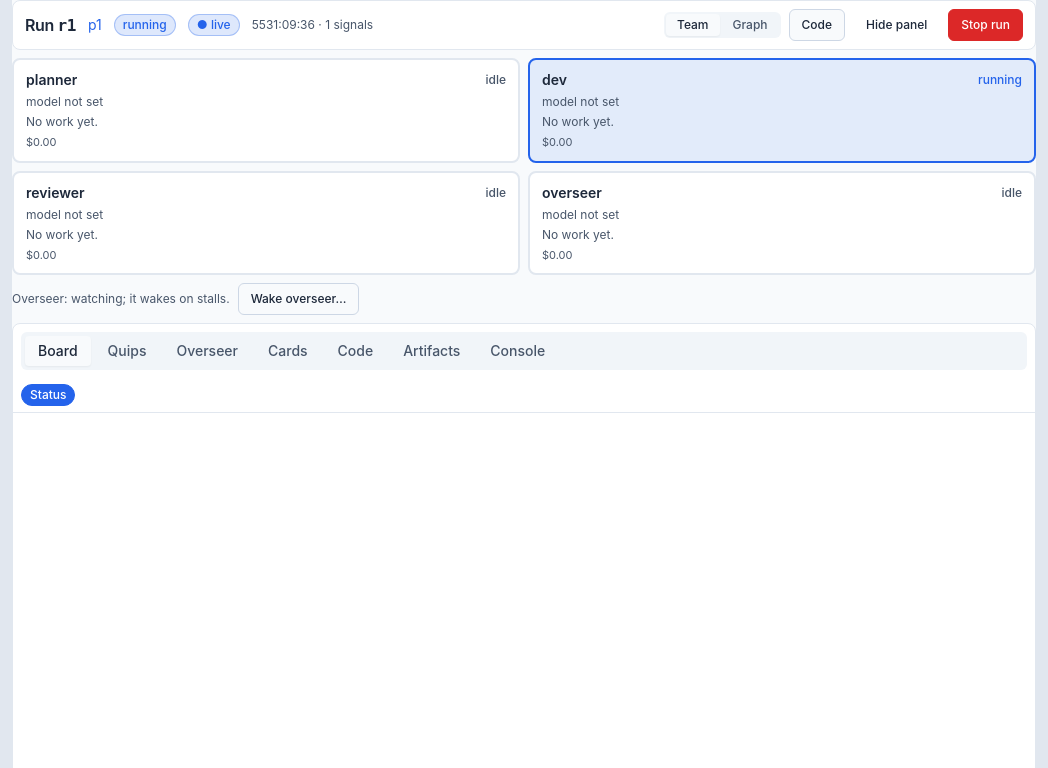
Scenario: CockpitView › the Code button opens the code on the worker writing now, with the project too
The image size is (1048, 768).
(page scrolled)
Click the button "Code": [817, 25] box [788,9,845,41]
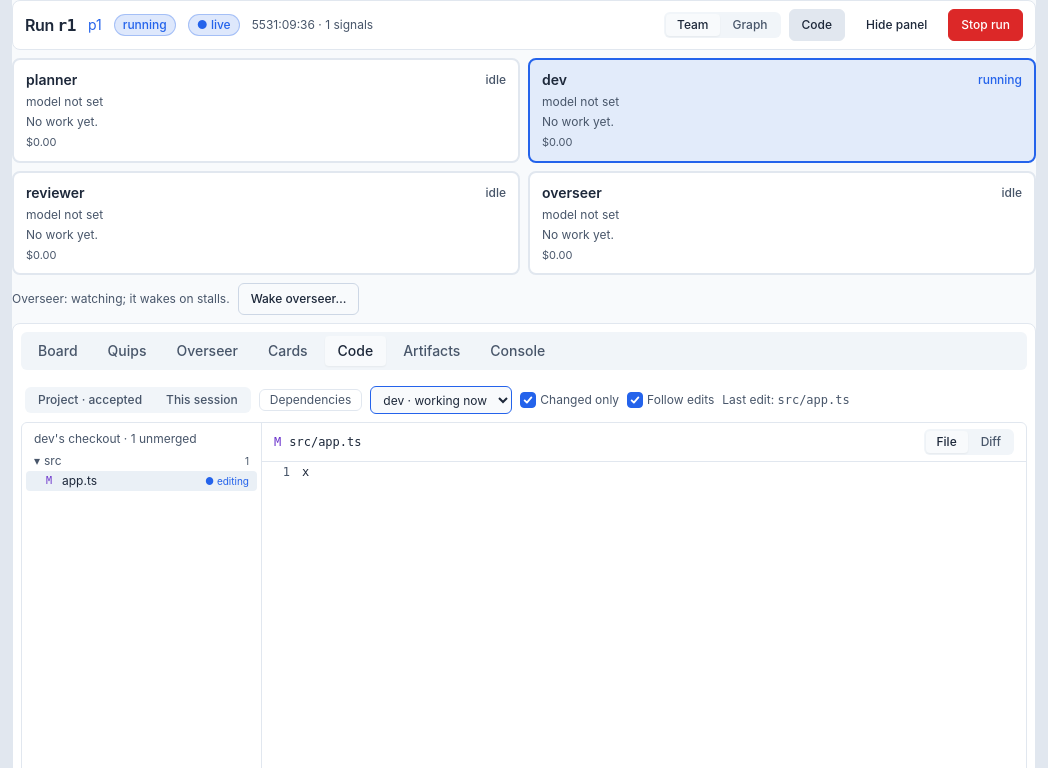
Check: the button "Project · accepted" is shown, box [27,389,153,411]
Check: the text "● editing" is shown, box [205,473,249,489]
